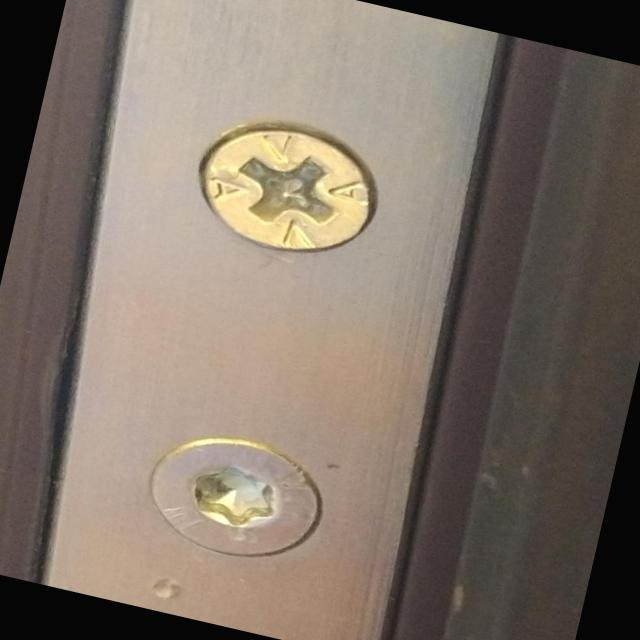Phillips: (160, 93, 406, 276)
Torx: (118, 408, 334, 588)
